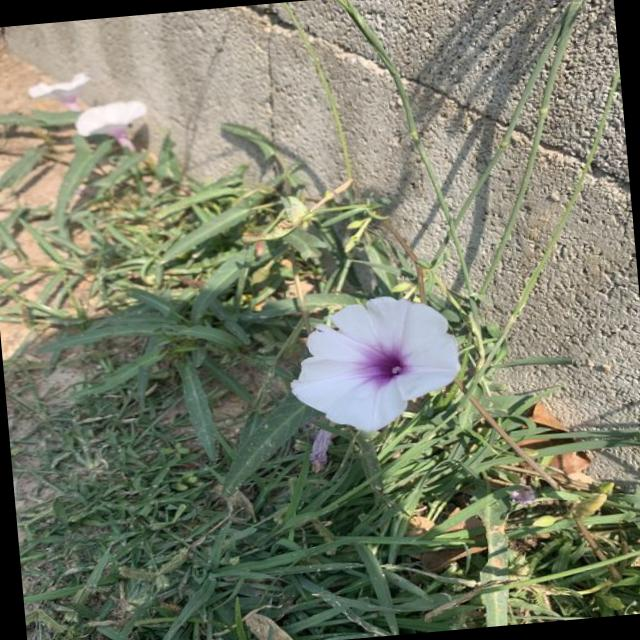ipomoea: (280, 288, 472, 442)
